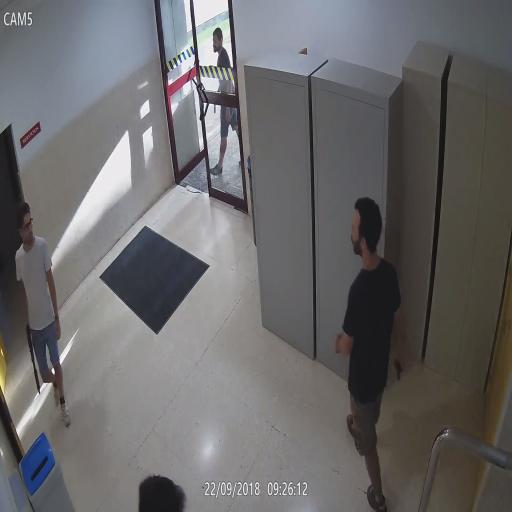Handgun: (392, 355, 406, 382), (213, 104, 217, 116)
